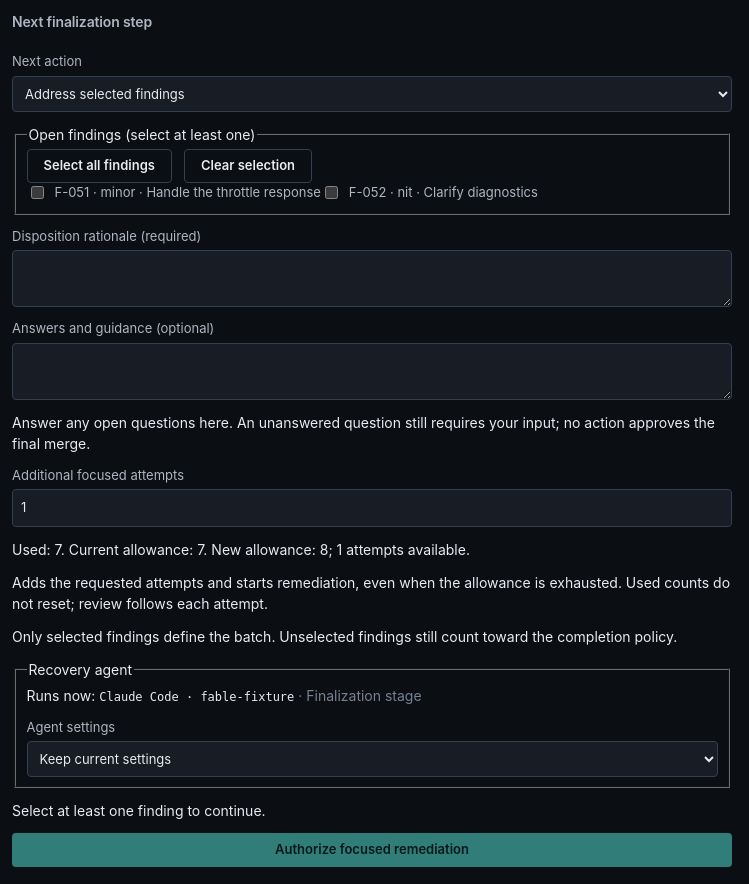
Test: prefills the current profile even when the backend catalog arrives after the checkpoint
Step 1. Select "Switch remaining finalization runs" in the dropdown labelled "Agent settings" → [372, 759], box [26,741,718,777]
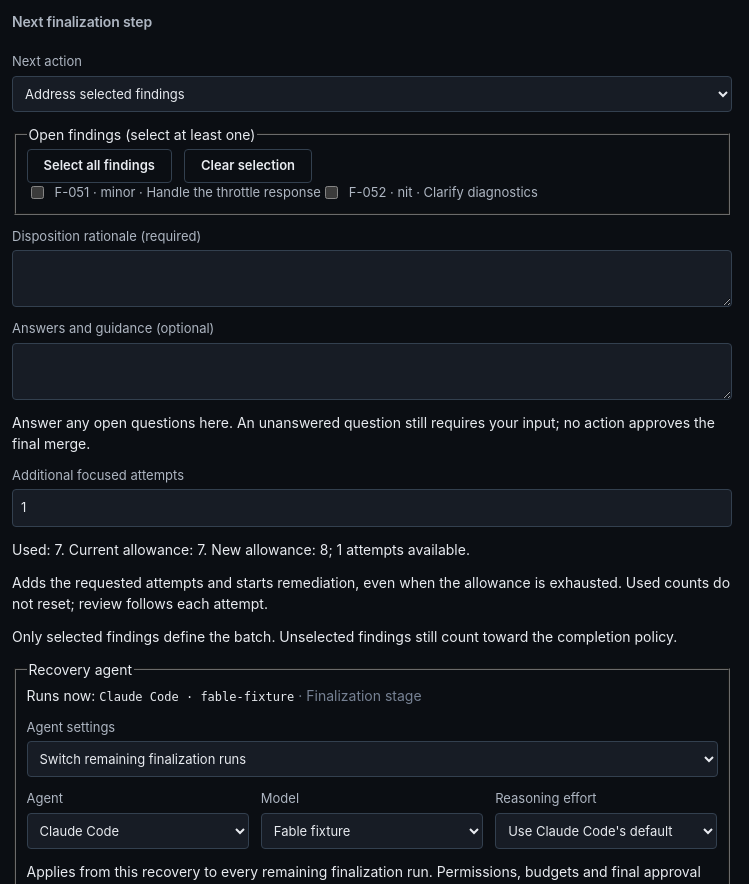
expect the dropdown labelled "Model" shows "Fable fixture": met, box [261,813,483,849]
